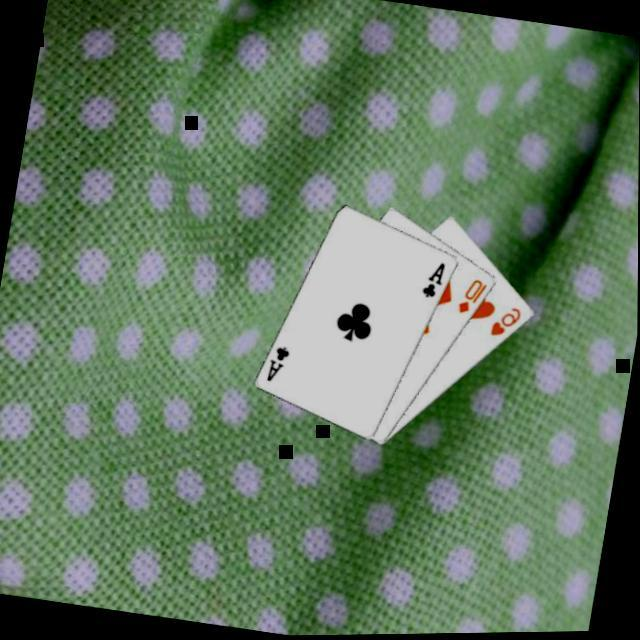10D: (455, 277, 491, 323)
6H: (488, 305, 526, 346)
AC: (420, 260, 450, 306), (264, 344, 294, 389)
